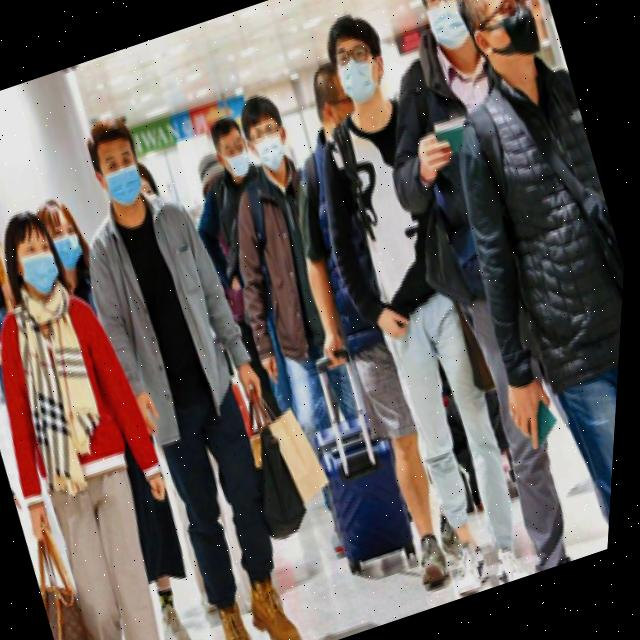Mask: (470, 2, 551, 71), (331, 46, 394, 104), (92, 152, 150, 212), (13, 240, 69, 302), (417, 0, 475, 58), (244, 120, 299, 174), (50, 222, 92, 272), (213, 138, 257, 184)
